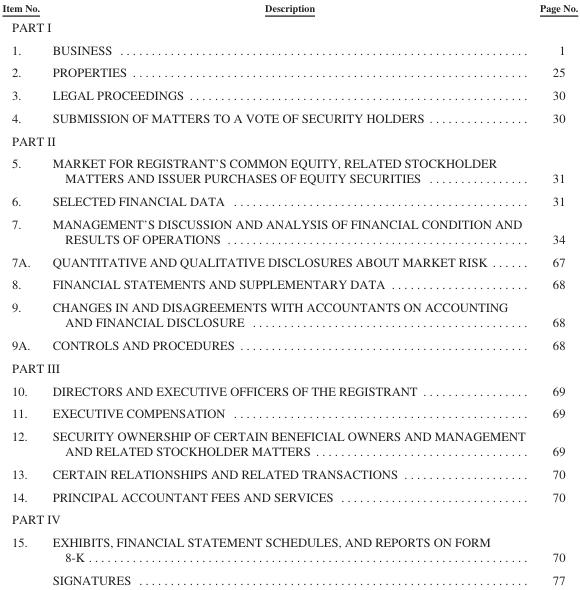table: (1, 1, 577, 586)
table column: (45, 1, 531, 586), (531, 1, 577, 586), (1, 1, 45, 586)
table column header: (1, 1, 577, 16)
table projected row header: (1, 128, 577, 151), (1, 507, 577, 530), (1, 356, 577, 378), (1, 16, 577, 37)
table row: (1, 151, 577, 189), (1, 212, 577, 250), (1, 295, 577, 333), (1, 424, 577, 462), (1, 530, 577, 568), (1, 37, 577, 60), (1, 60, 577, 83), (1, 83, 577, 106), (1, 128, 577, 151), (1, 189, 577, 212), (1, 272, 577, 295), (1, 333, 577, 356), (1, 378, 577, 401), (1, 401, 577, 424), (1, 484, 577, 507), (1, 507, 577, 530), (1, 106, 577, 128), (1, 250, 577, 272), (1, 356, 577, 378), (1, 462, 577, 484), (1, 16, 577, 37), (1, 568, 577, 586), (1, 1, 577, 16)
table spanning cell: (1, 530, 45, 586)
